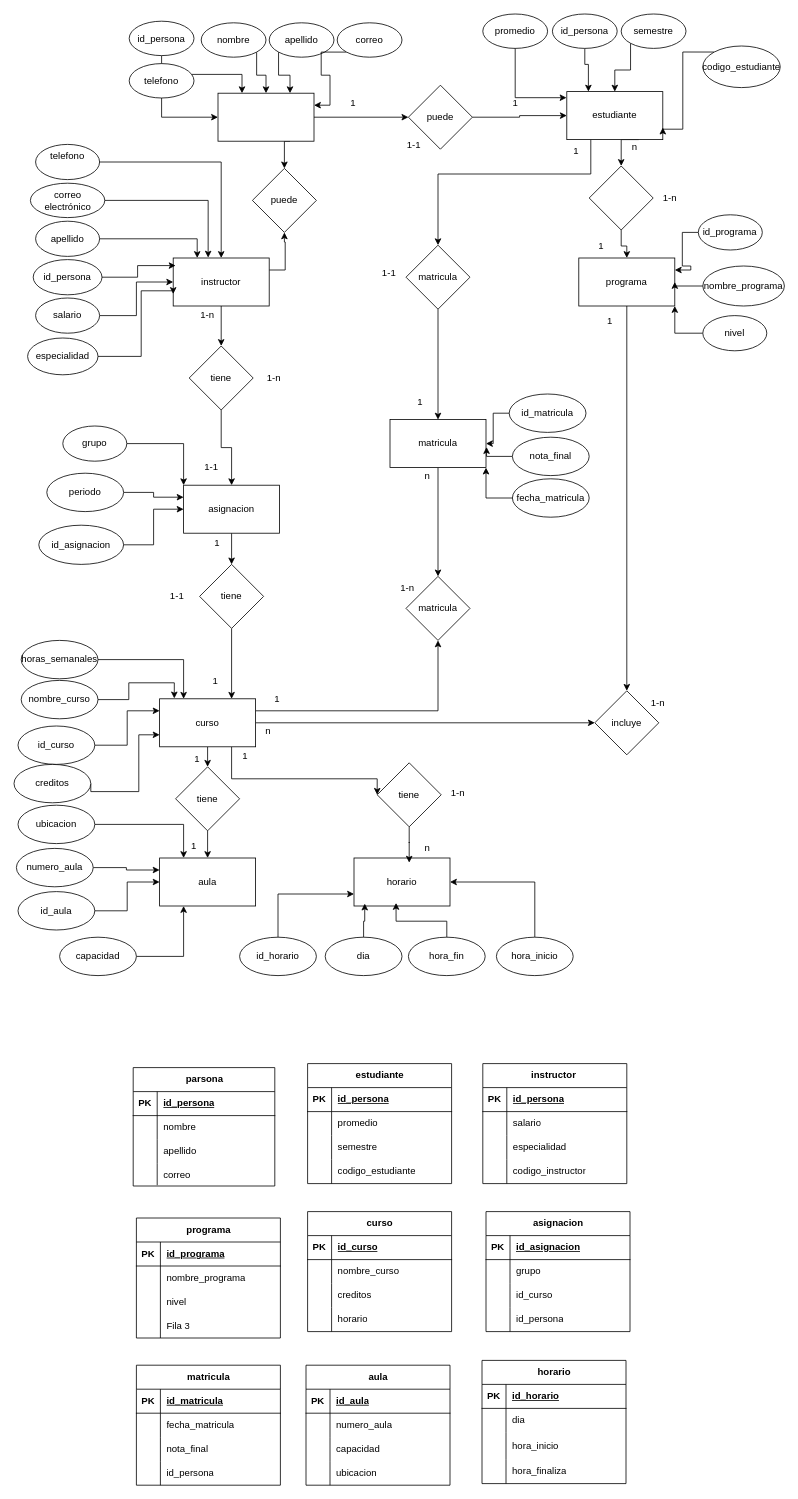
The diagram is 798 pixels wide and 1499 high, and some of its shapes have lost their labels. The centre of each missing label's shape, as x and y in pixels:
"PERSONAS" goes at pixel 265 116.
"pertenece" goes at pixel 620 197.
